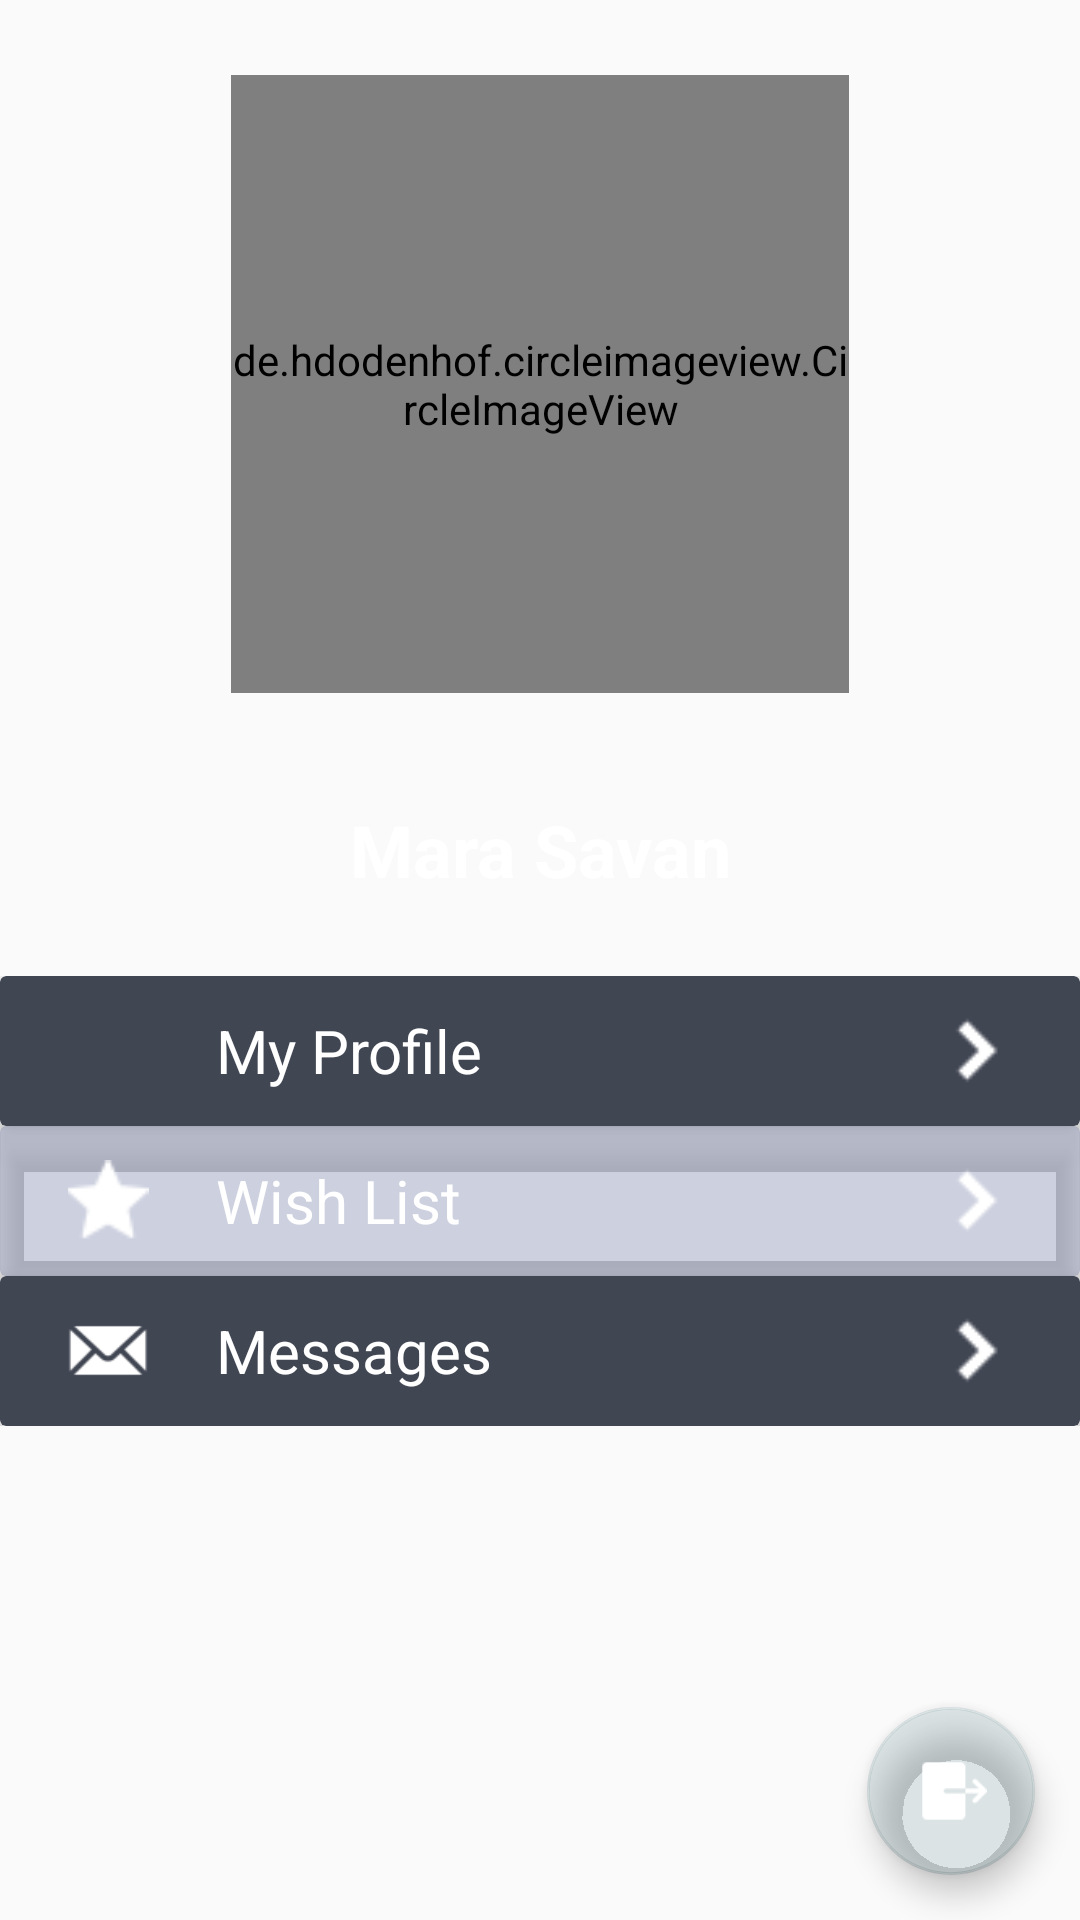

Screen size 1080*1920. Icon name, then its box in pixels as (x1, y1, x2, y2):
exit: (867, 1707, 1035, 1875)
